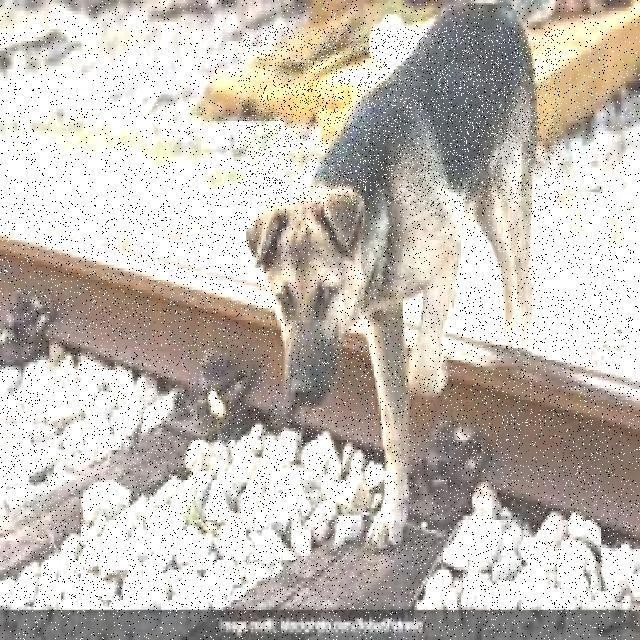danger: (238, 27, 560, 551)
rail: (0, 205, 632, 614)
